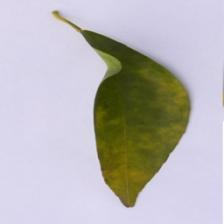greening: (85, 145, 166, 209)
